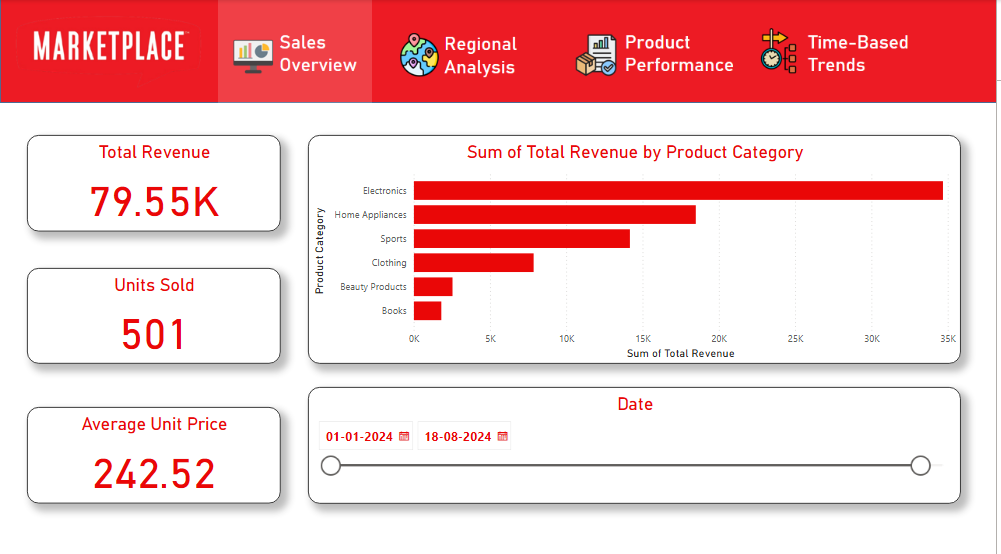

This screenshot's page, from the dashboard's own definition file:
{"tool":"powerbi","page":{"name":"Sales Overview","canvas":[1280,720],"ordinal":0},"visuals":[{"type":"shape","box":[280.2,0,197.9,133.7],"z":0},{"type":"actionButton","box":[280.2,0,197.9,133.7],"z":1000},{"type":"actionButton","box":[496.1,0,199.2,133.7],"z":2000},{"type":"actionButton","box":[727.4,0,227.5,133.7],"z":3000},{"type":"actionButton","box":[963.9,0,227.5,133.7],"z":4000},{"type":"card","title":"Total Revenue","fields":{"Values":["Sum(Online Sales Data.Total Revenue)"]},"box":[35.1,173,325.7,124.3],"z":5000},{"type":"card","title":"Average Unit Price","fields":{"Values":["Avg(Online Sales Data.Unit Price)"]},"box":[35.1,523,325.7,124.3],"z":6000},{"type":"card","title":"Units Sold","fields":{"Values":["Sum(Online Sales Data.Units Sold)"]},"box":[35.1,344.6,325.7,123],"z":7000},{"type":"barChart","fields":{"Category":["Online Sales Data.Product Category"],"Y":["Sum(Online Sales Data.Total Revenue)"]},"box":[395.8,173.5,839.2,294.3],"z":8000},{"type":"slicer","title":"Date","fields":{"Values":["Online Sales Data.Date"]},"box":[395.8,497.3,839.2,150.4],"z":9000}]}

Visuals, with their boxes in screenshot pixels (x1, y1, x2, y2), scaled from the page's 1280x720 canvas onto the 1001x554 screenshot:
shape: [x1=219, y1=0, x2=374, y2=103]
actionButton: [x1=219, y1=0, x2=374, y2=103]
actionButton: [x1=388, y1=0, x2=544, y2=103]
actionButton: [x1=569, y1=0, x2=747, y2=103]
actionButton: [x1=754, y1=0, x2=932, y2=103]
"Total Revenue" card: [x1=27, y1=133, x2=282, y2=229]
"Average Unit Price" card: [x1=27, y1=402, x2=282, y2=498]
"Units Sold" card: [x1=27, y1=265, x2=282, y2=360]
barChart - Online Sales Data.Product Category x Sum(Online Sales Data.Total Revenue): [x1=310, y1=133, x2=966, y2=360]
"Date" slicer: [x1=310, y1=383, x2=966, y2=498]
